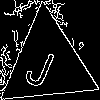J: (22, 38, 61, 91)
